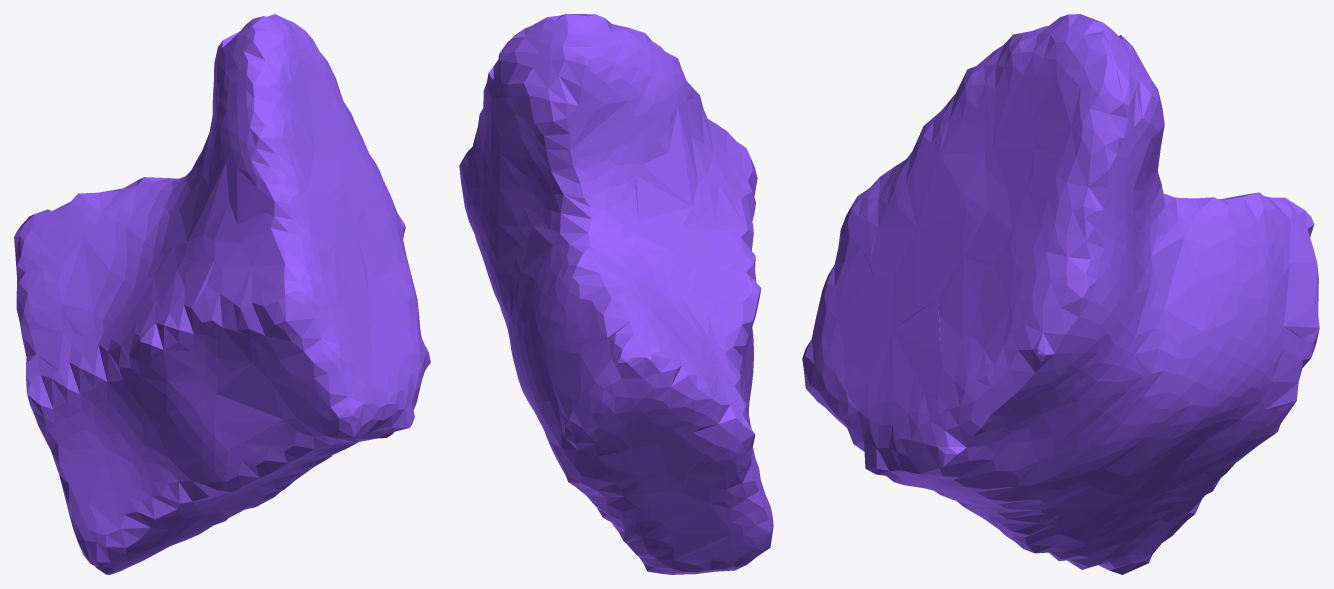
File: Model_41_RH__Area_8_of_cortex__caudal_part_(A8C).obj
The picture shows the model from 3 angles, left to right: view 1: azimuth 30°, elevation 25°; view 2: azimuth 150°, elevation 25°; view 3: azimuth 270°, elevation 25°; orthographic projection. The views are drawn at different scales.
Size of the model in its own units: 1.94 by 2.9 by 2.21.
